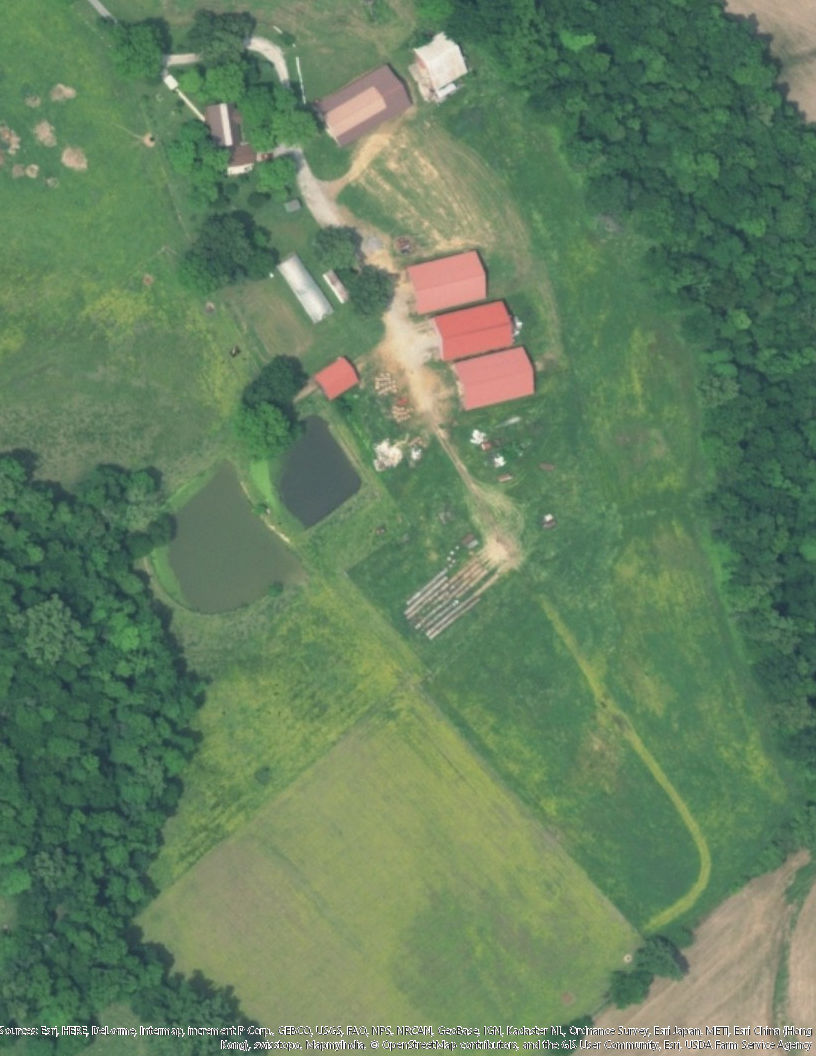cafo: (450, 344, 538, 412), (403, 247, 493, 308), (432, 298, 518, 357), (271, 255, 339, 327)
